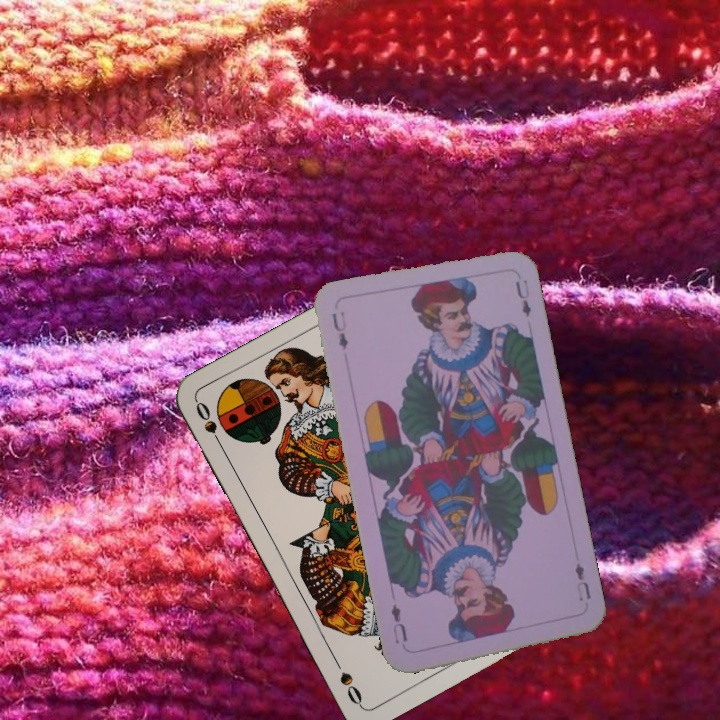EU: (327, 308, 351, 353), (571, 559, 594, 604)
SO: (191, 397, 227, 452)
